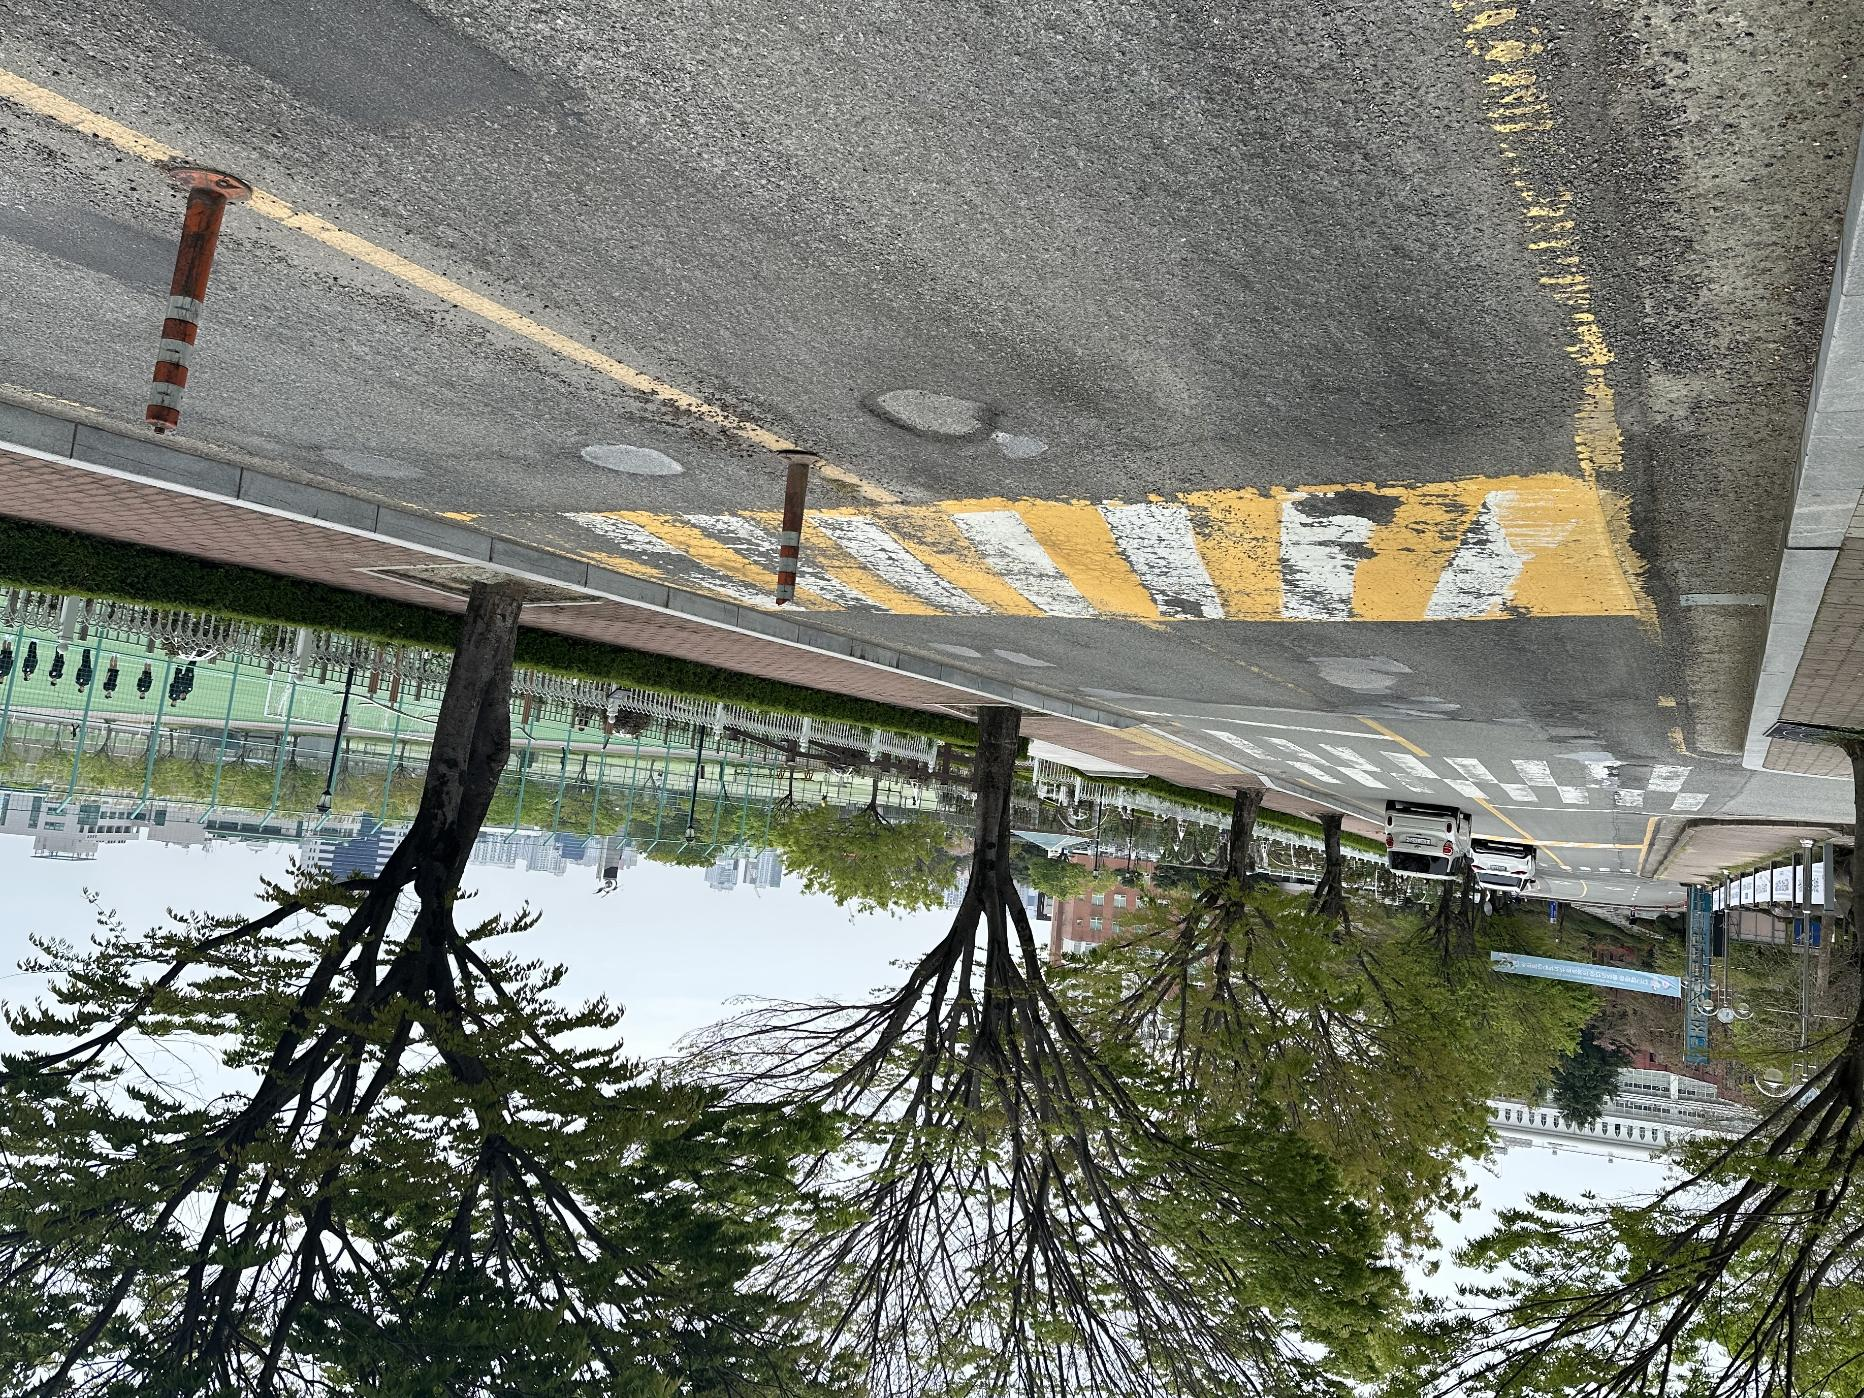pothole: (846, 372, 1013, 469)
